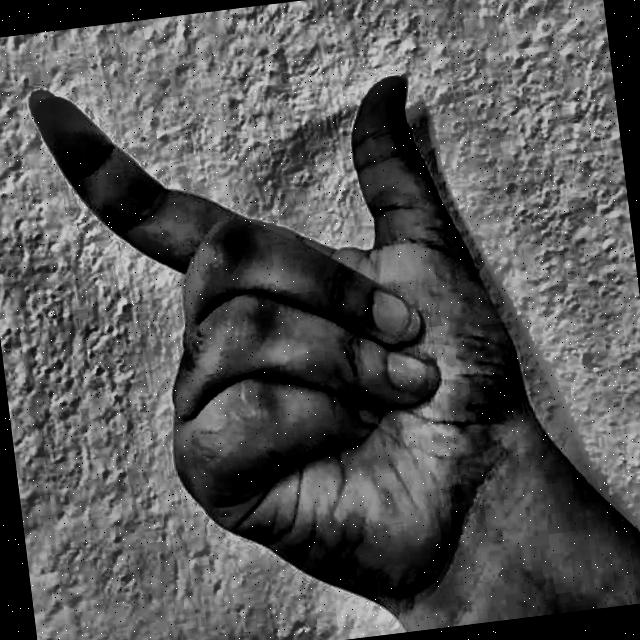ChandraBindu: (11, 0, 580, 640)
